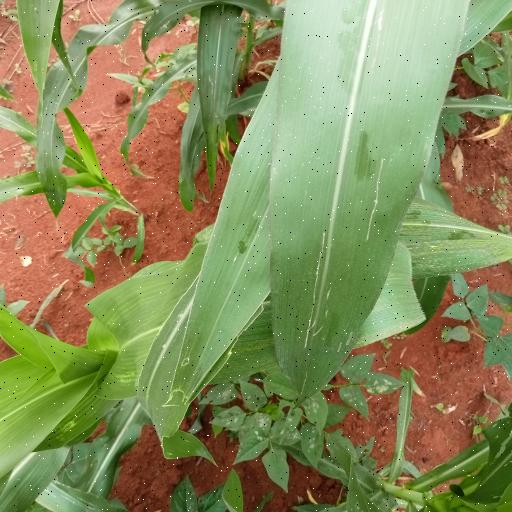Corn_Brown_Spots: (127, 18, 450, 420)
